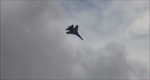maybay_muctieu: (65, 24, 84, 42)
